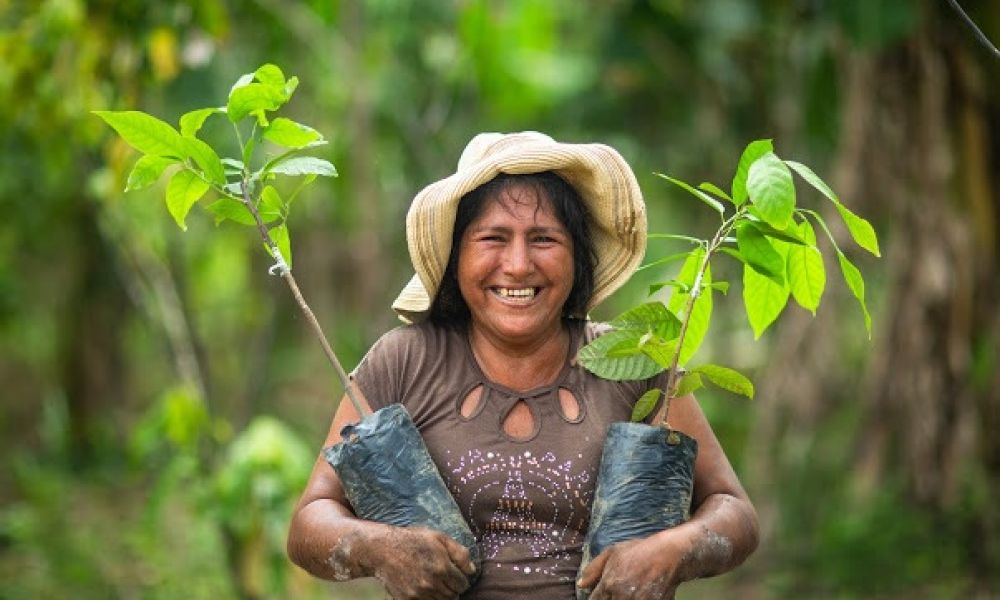Without Helmet: (406, 123, 648, 347)
